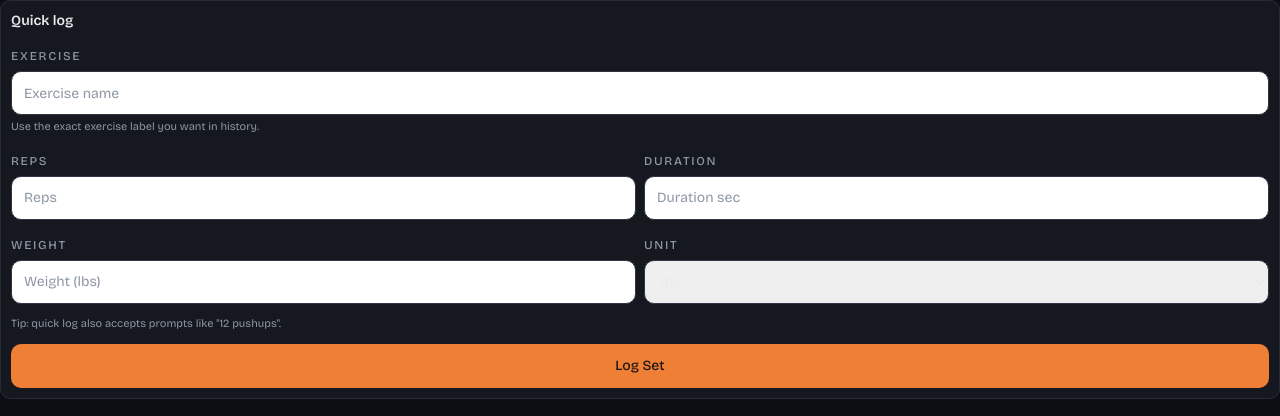
Test: QuickLogFormBlock › shows validation error when reps and duration are both provided
Step 1. Type "Bike" into the field labelled "Exercise" → (640, 93), box top-left (11, 71), bottom-right (1269, 115)
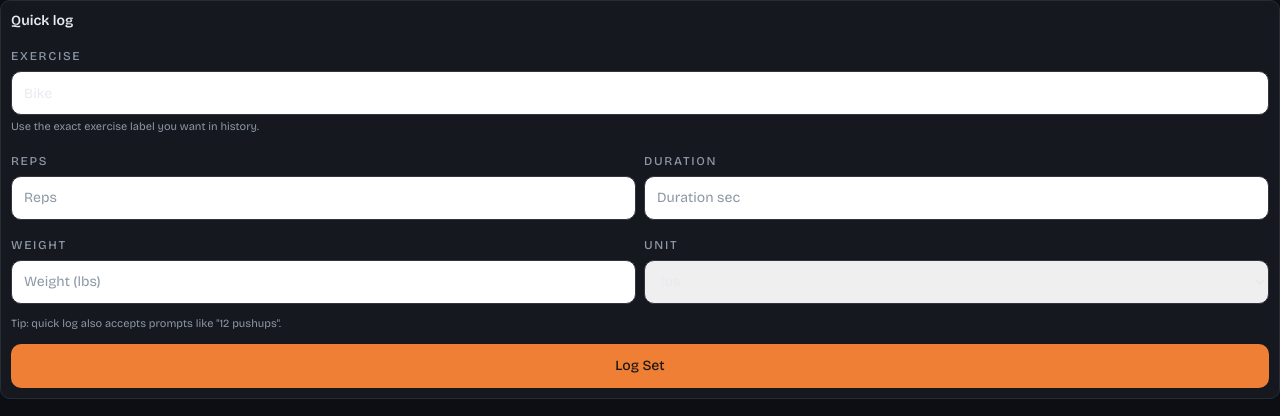
Step 2. Type "10" into the field labelled "Reps" → (324, 198), box top-left (11, 176), bottom-right (636, 220)
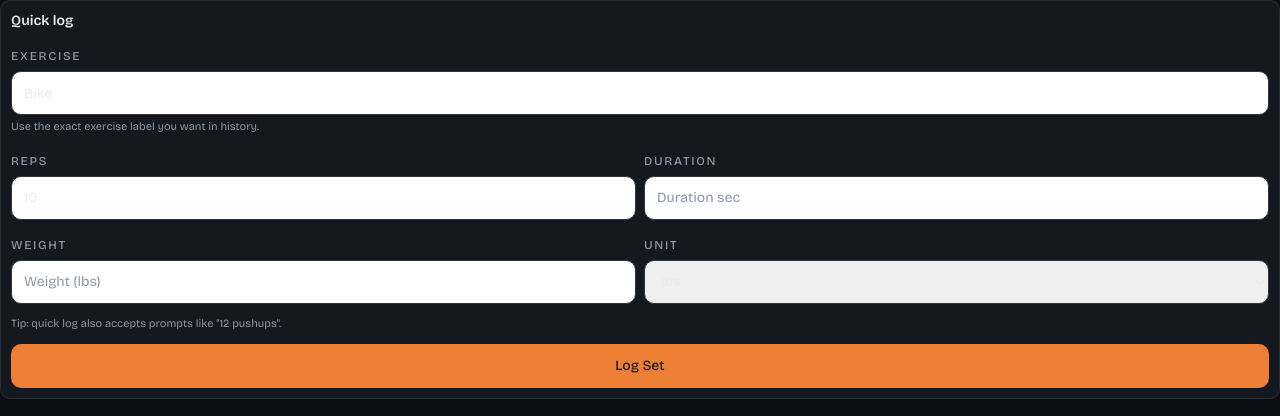
Step 3. Type "120" into the field labelled "Duration" → (956, 198), box top-left (644, 176), bottom-right (1269, 220)
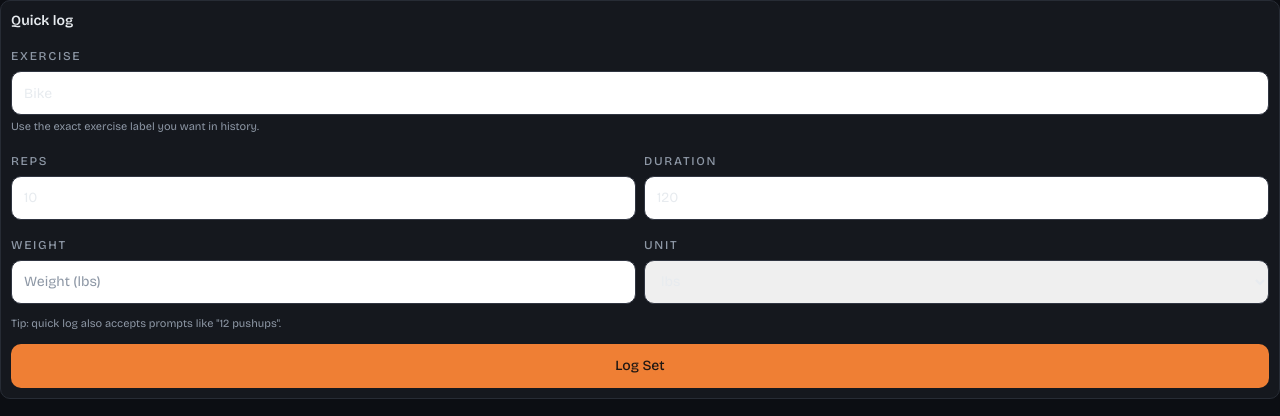
Step 4. Click the button "Log Set" → click(640, 366), box top-left (11, 344), bottom-right (1269, 388)
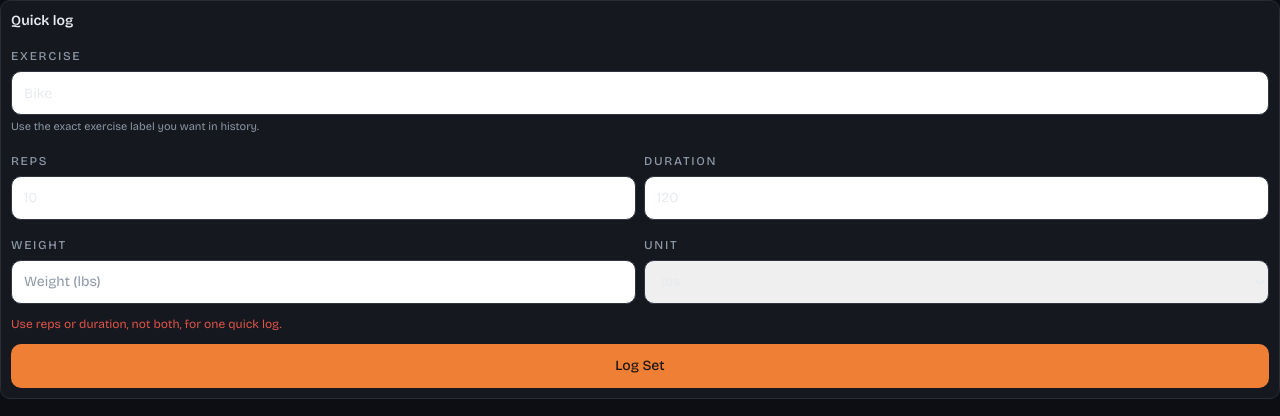
Expected: the text "Use reps or duration, not both, for one quick log." is shown, top-left (11, 316), bottom-right (282, 330)
